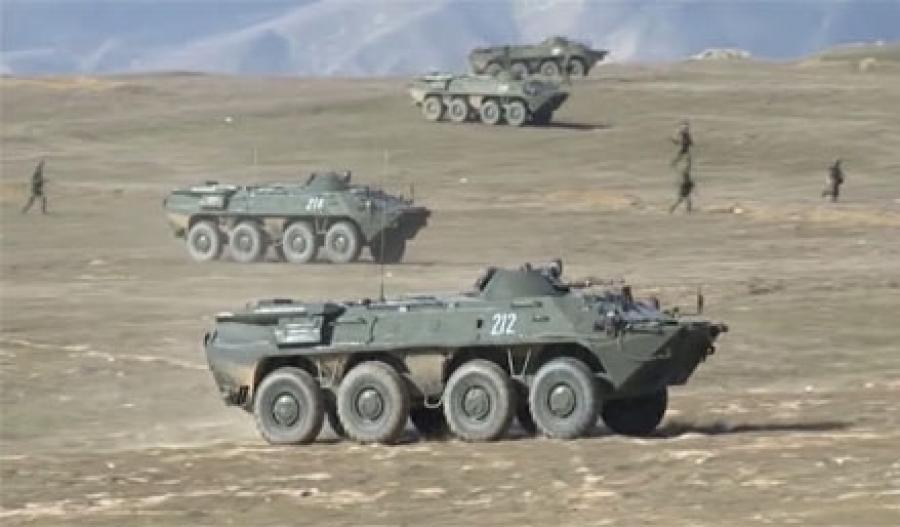person: (668, 153, 699, 213), (21, 158, 51, 214), (667, 121, 695, 170), (820, 157, 845, 203)
tank: (203, 258, 731, 448), (161, 168, 432, 267), (411, 68, 570, 126), (468, 33, 609, 78)
